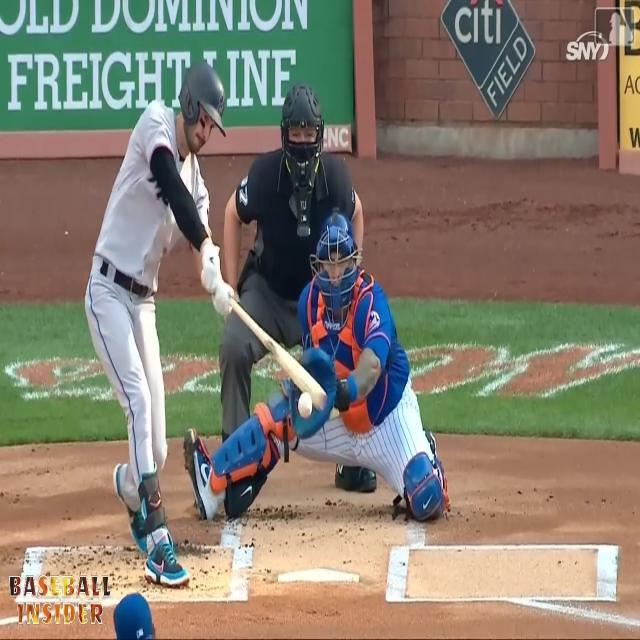baseball: (297, 391, 313, 420)
